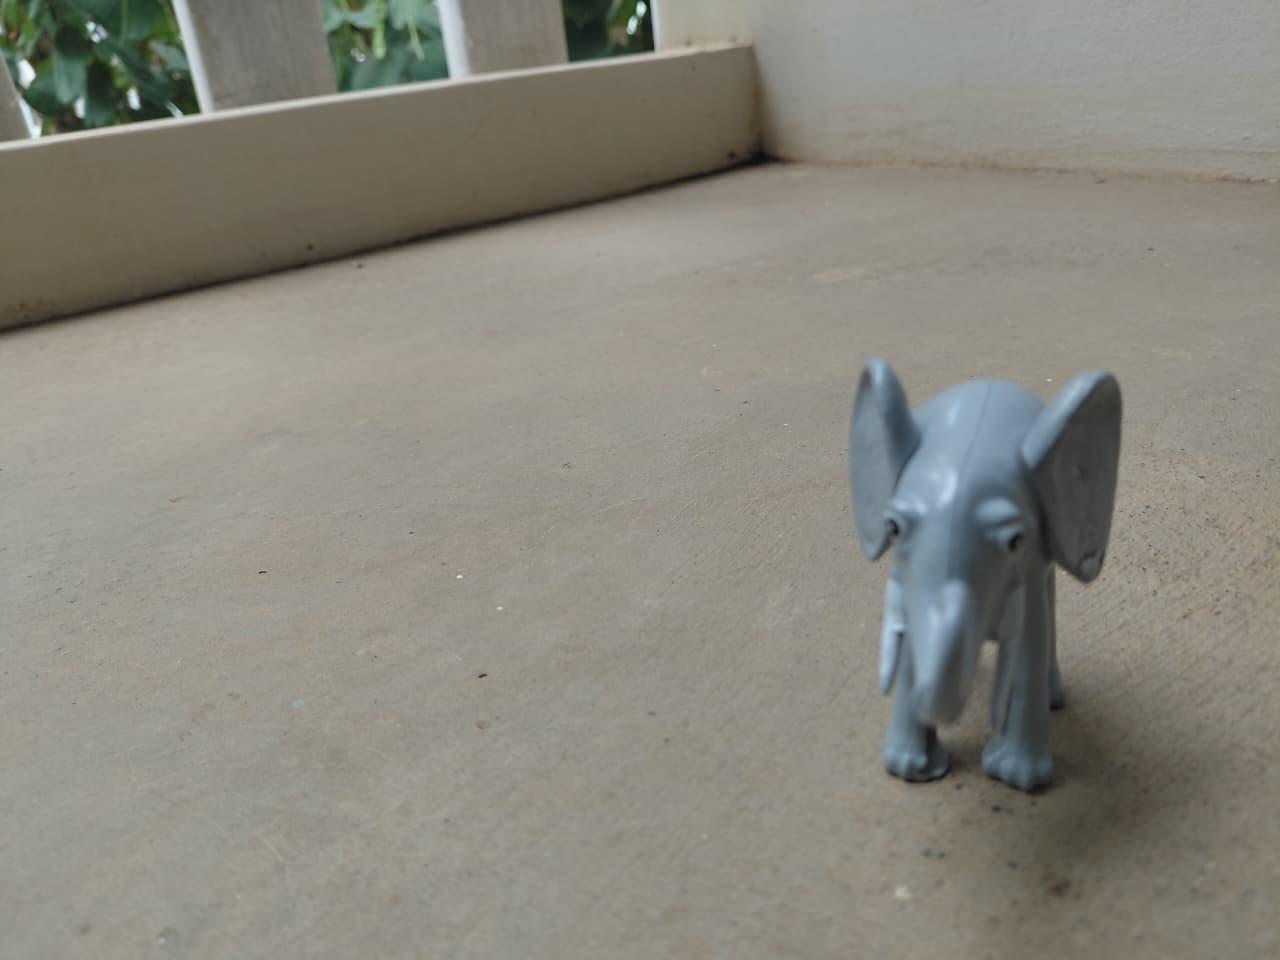elephant: (822, 321, 1214, 833)
